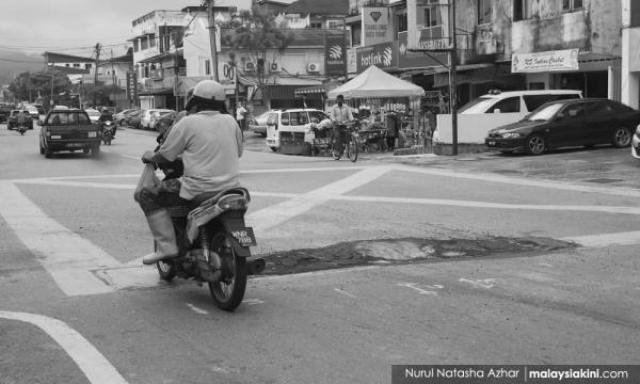Pothole: (352, 236, 436, 268)
